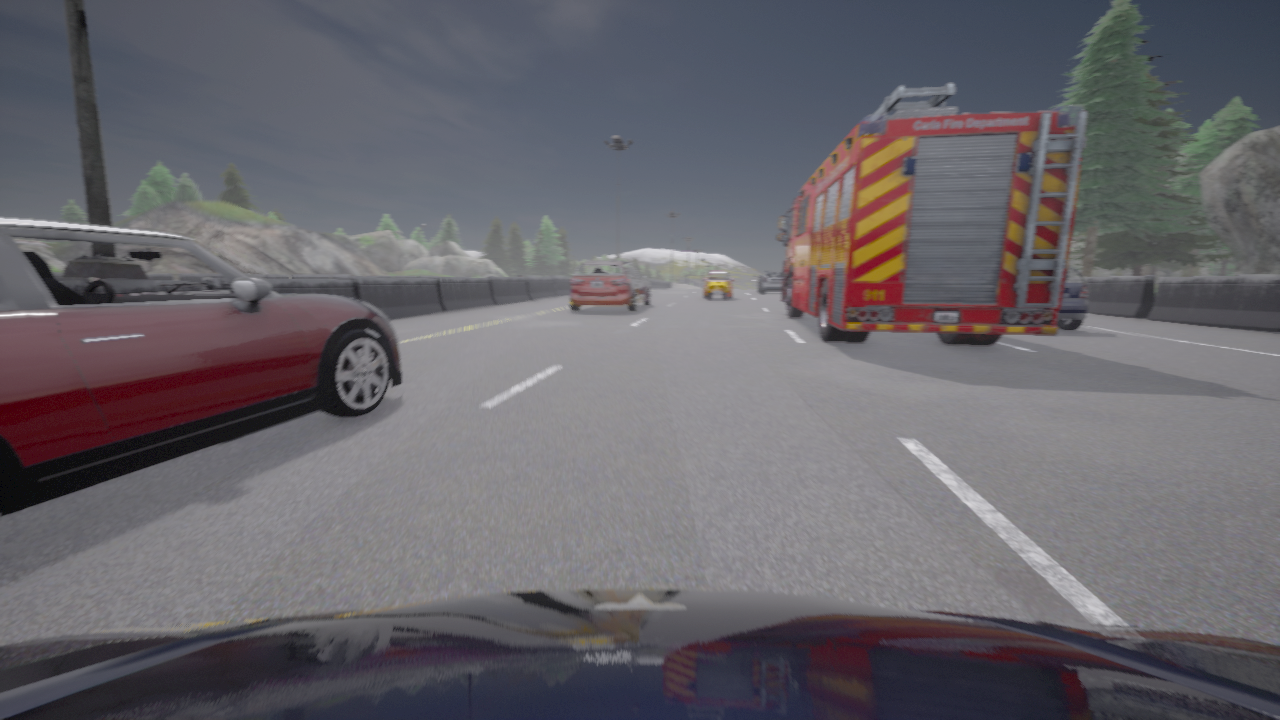cyclist: (0, 588, 1279, 719), (777, 83, 1086, 345), (569, 259, 650, 311), (1056, 265, 1088, 330), (703, 270, 733, 299), (758, 270, 785, 293)
